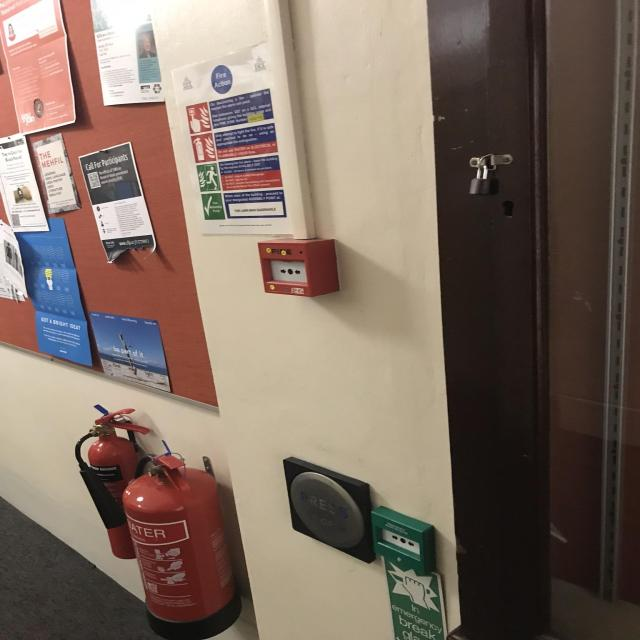fire_extinguisher: (120, 448, 247, 640), (70, 406, 152, 565)
